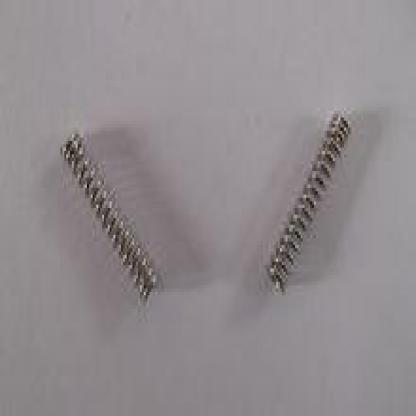FOD: (58, 128, 160, 309), (266, 106, 352, 300)
